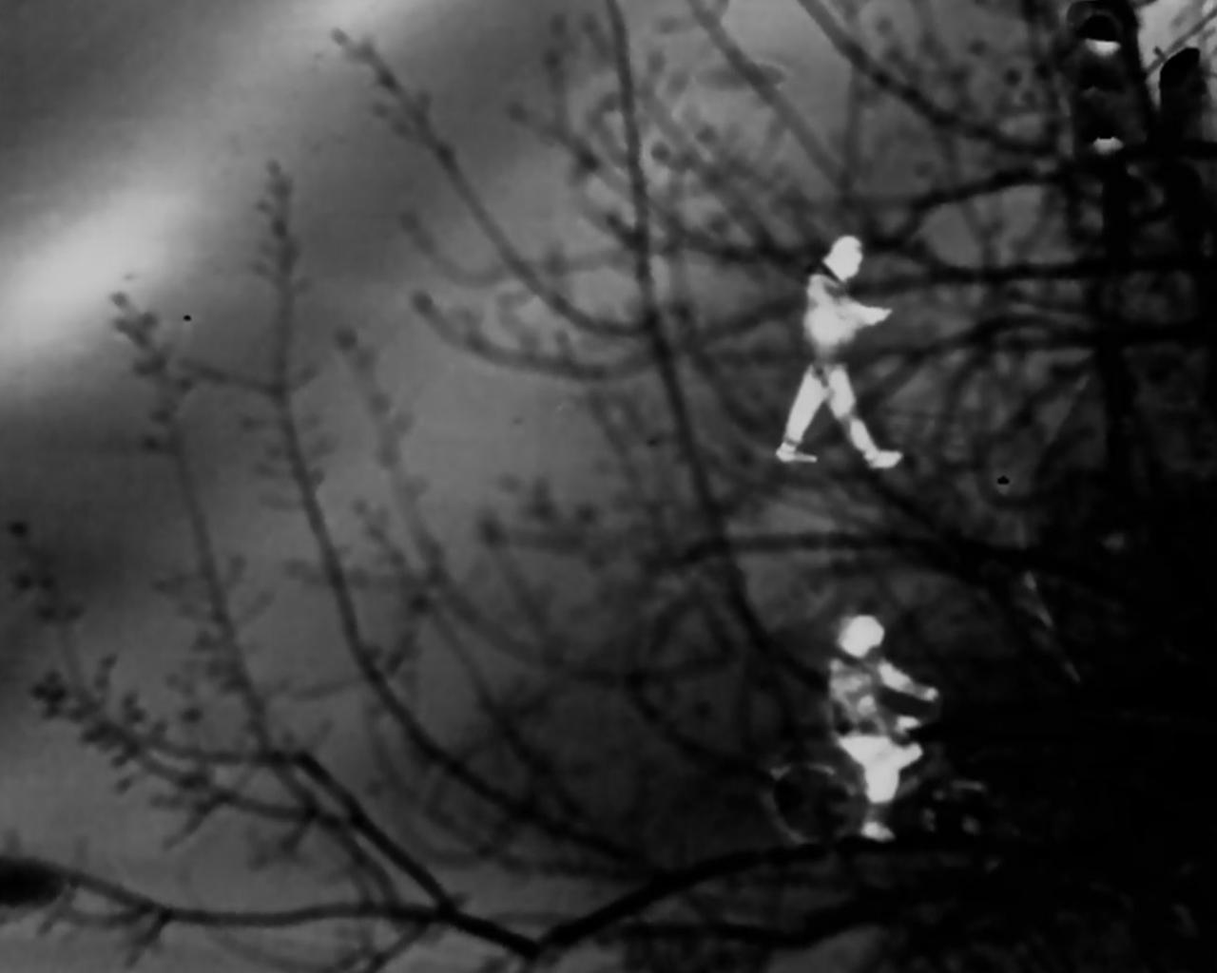person: (782, 236, 900, 467), (820, 613, 944, 828)
